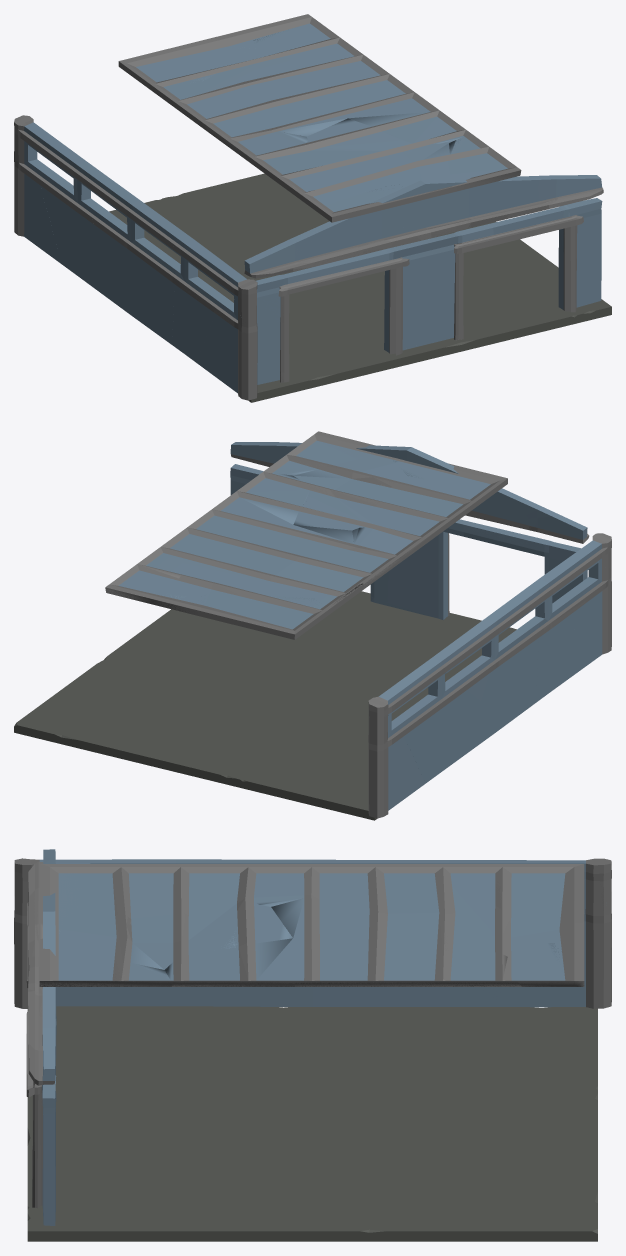
File: Hangar.fbx
3 views of the same model, one above another, from view 1: azimuth 30°, elevation 25°; view 2: azimuth 150°, elevation 25°; view 3: azimuth 270°, elevation 25° (orthographic). The views are drawn at different scales.
Parts seen in each view (by area): view 1: Roof, Foundation, PanelGates1, PanelHangar, PanelGates2, PanelHangar_cell.002, PanelHangar_cell.011, PanelHangar_cell.003, PanelGates1_cell.011, PanelHangar_cell.001, PanelHangar_cell.012, PanelGates1_cell.009 (+19 smaller); view 2: Foundation, Roof, PanelHangar, PanelGates1, PanelGates2, PanelHangar_cell.002, PanelHangar_cell.003, PanelHangar_cell.011, PanelHangar_cell.001, PanelHangar_cell.012, PanelHangar_cell.008, PanelGates1_cell.011 (+12 smaller); view 3: Foundation, Roof, PanelHangar, PanelGates2, PanelGates1, Roof_cell.001, Roof_cell.010, PanelHangar_cell.011, Roof_cell, Roof_cell.008, Roof_cell.003, PanelGates1_cell.009 (+6 smaller).
Part boxes in pixels (x1,y1,x2,y2): Roof: (118, 17, 521, 222); Foundation: (109, 173, 611, 402); PanelGates1: (256, 201, 602, 384); PanelHangar: (14, 115, 257, 400); PanelGates2: (244, 175, 603, 278); PanelHangar_cell.002: (21, 124, 116, 275); PanelHangar_cell.011: (196, 299, 257, 399); PanelHangar_cell.003: (14, 117, 61, 264); PanelGates1_cell.011: (371, 238, 432, 352); PanelHangar_cell.001: (124, 206, 176, 344); PanelHangar_cell.012: (172, 245, 224, 362); PanelGates1_cell.009: (558, 198, 601, 311); Foundation: (14, 591, 516, 820); Roof: (105, 431, 507, 639); PanelHangar: (368, 533, 611, 817); PanelGates1: (230, 464, 587, 619); PanelGates2: (230, 442, 588, 537); PanelHangar_cell.002: (382, 658, 480, 782); PanelHangar_cell.003: (368, 700, 425, 818); PanelHangar_cell.011: (560, 566, 611, 684); PanelHangar_cell.001: (492, 591, 545, 710); PanelHangar_cell.012: (536, 590, 585, 701); PanelHangar_cell.008: (434, 618, 500, 701); PanelGates1_cell.011: (387, 528, 463, 617); Foundation: (27, 1006, 597, 1241); Roof: (39, 864, 584, 986); PanelHangar: (14, 858, 611, 1008); PanelGates2: (28, 849, 55, 1085); PanelGates1: (26, 902, 56, 1225); Roof_cell.001: (39, 939, 172, 986); Roof_cell.010: (164, 938, 294, 986); PanelHangar_cell.011: (14, 906, 149, 1008); Roof_cell: (112, 873, 244, 918); Roof_cell.008: (39, 864, 87, 939); Roof_cell.003: (295, 954, 521, 986); PanelGates1_cell.009: (32, 1087, 56, 1225).
Size of the model in its own units: 2182 by 953 by 2370.
